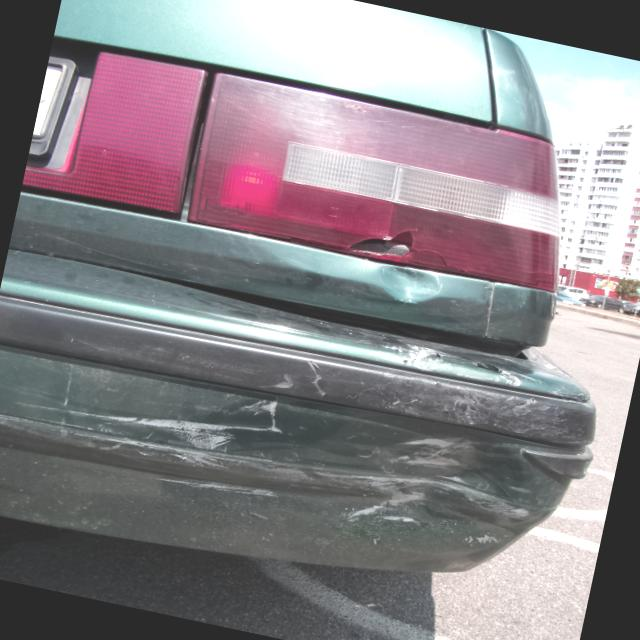Cabossage: (221, 379, 563, 574), (365, 258, 460, 318)
Phare abime: (318, 156, 508, 299)
Rayure: (38, 347, 555, 591)
